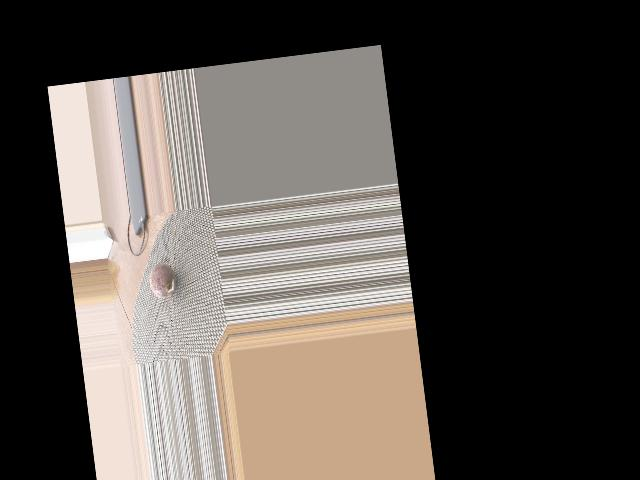beet: (147, 261, 177, 298)
